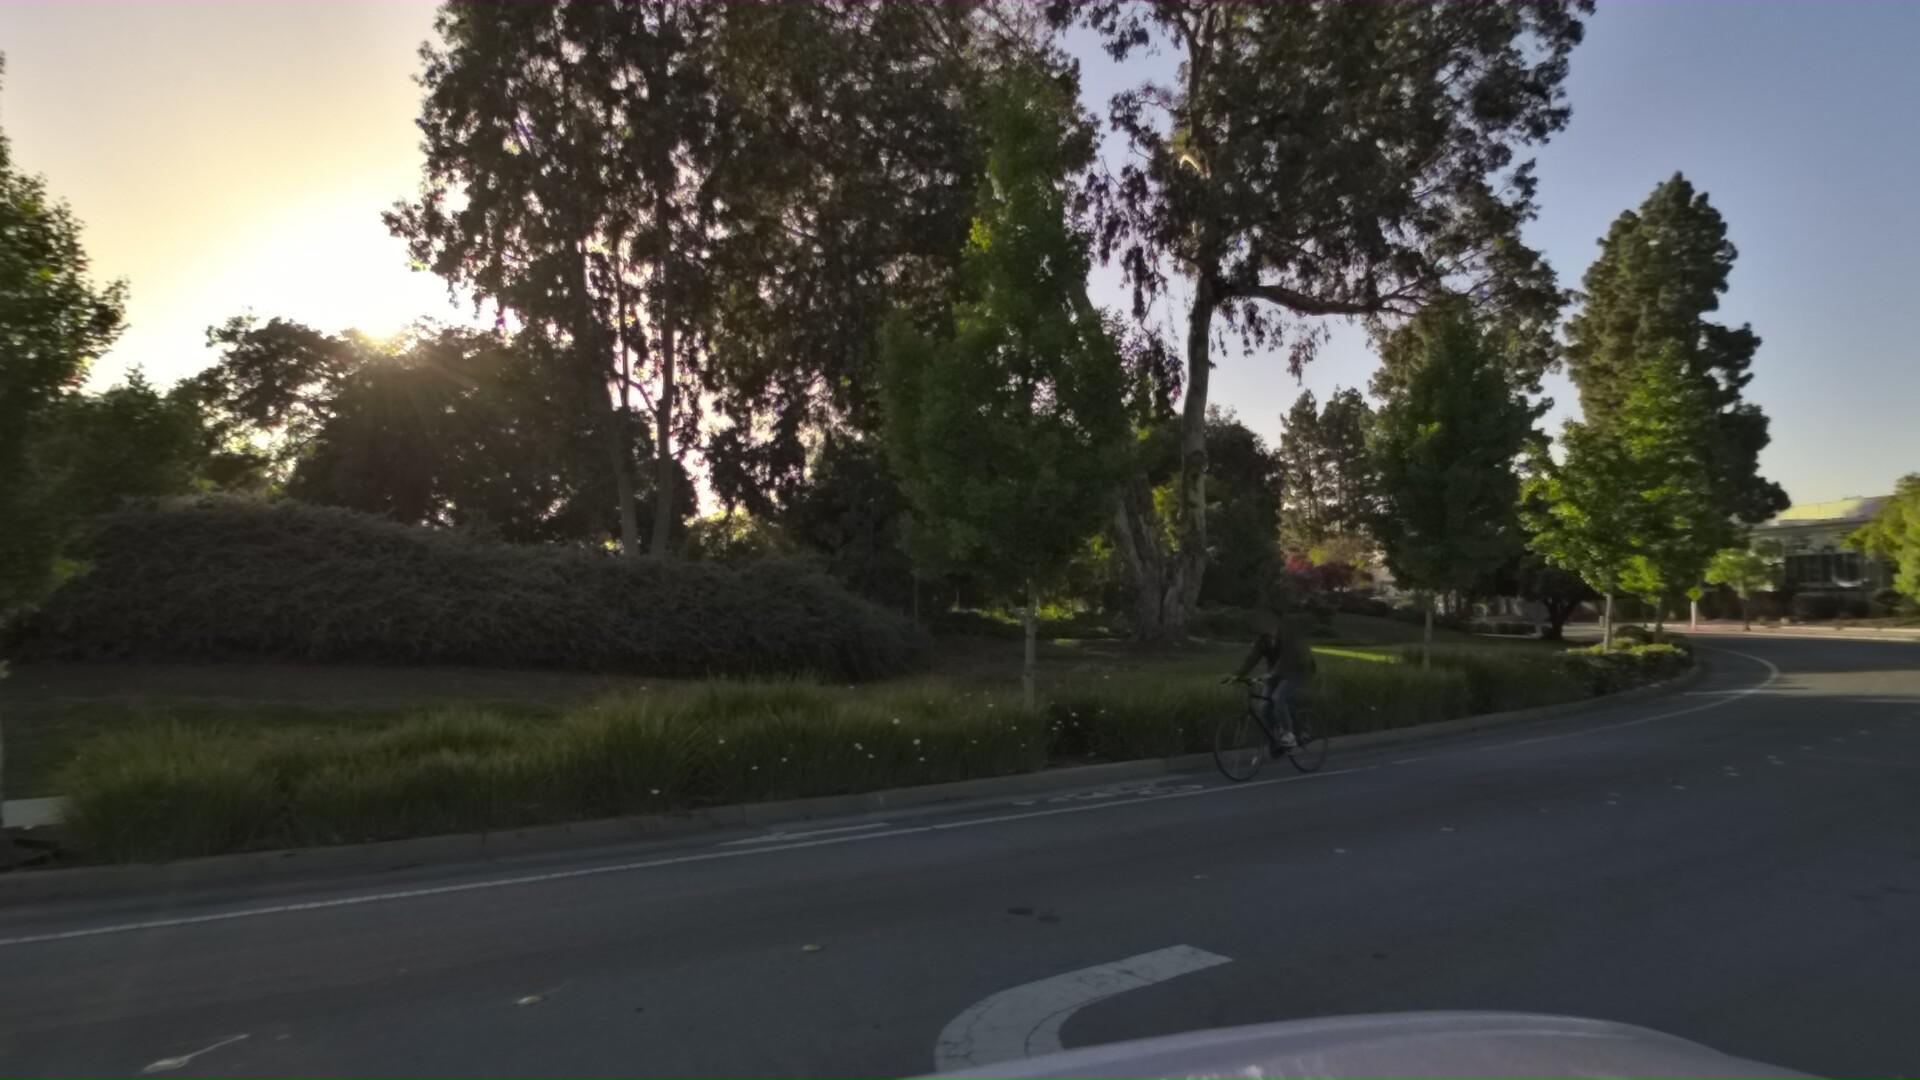bicycle: (1120, 588, 1317, 803)
